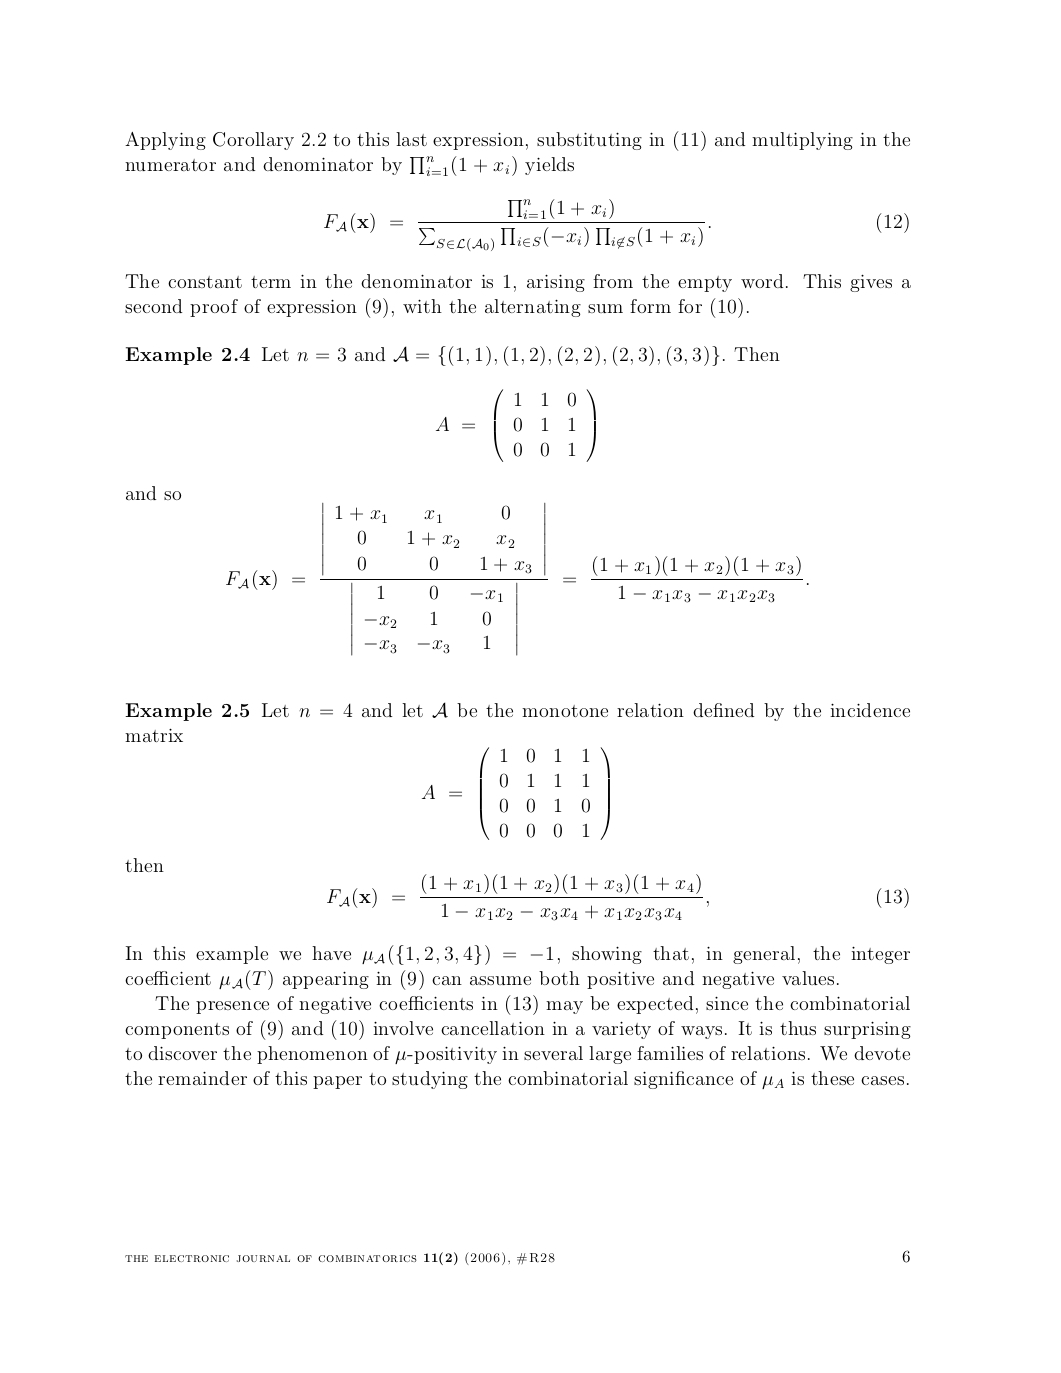formula: (226, 502, 808, 656), (324, 198, 908, 252), (327, 874, 908, 921), (421, 746, 609, 840), (435, 388, 595, 462)
